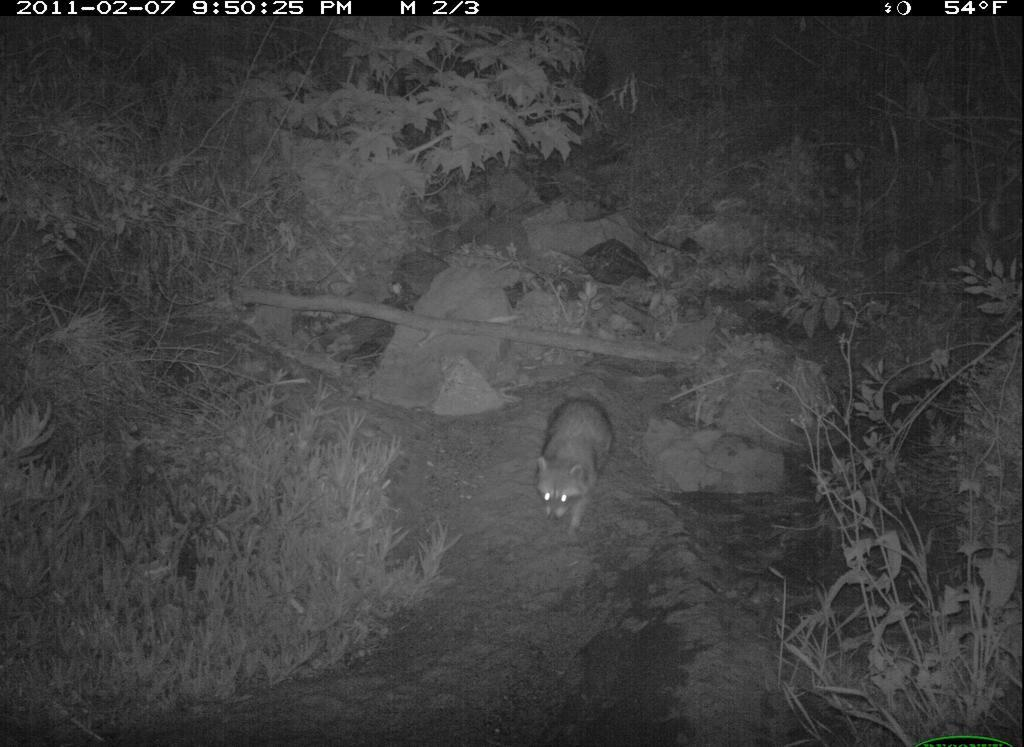raccoon: (531, 396, 623, 544)
